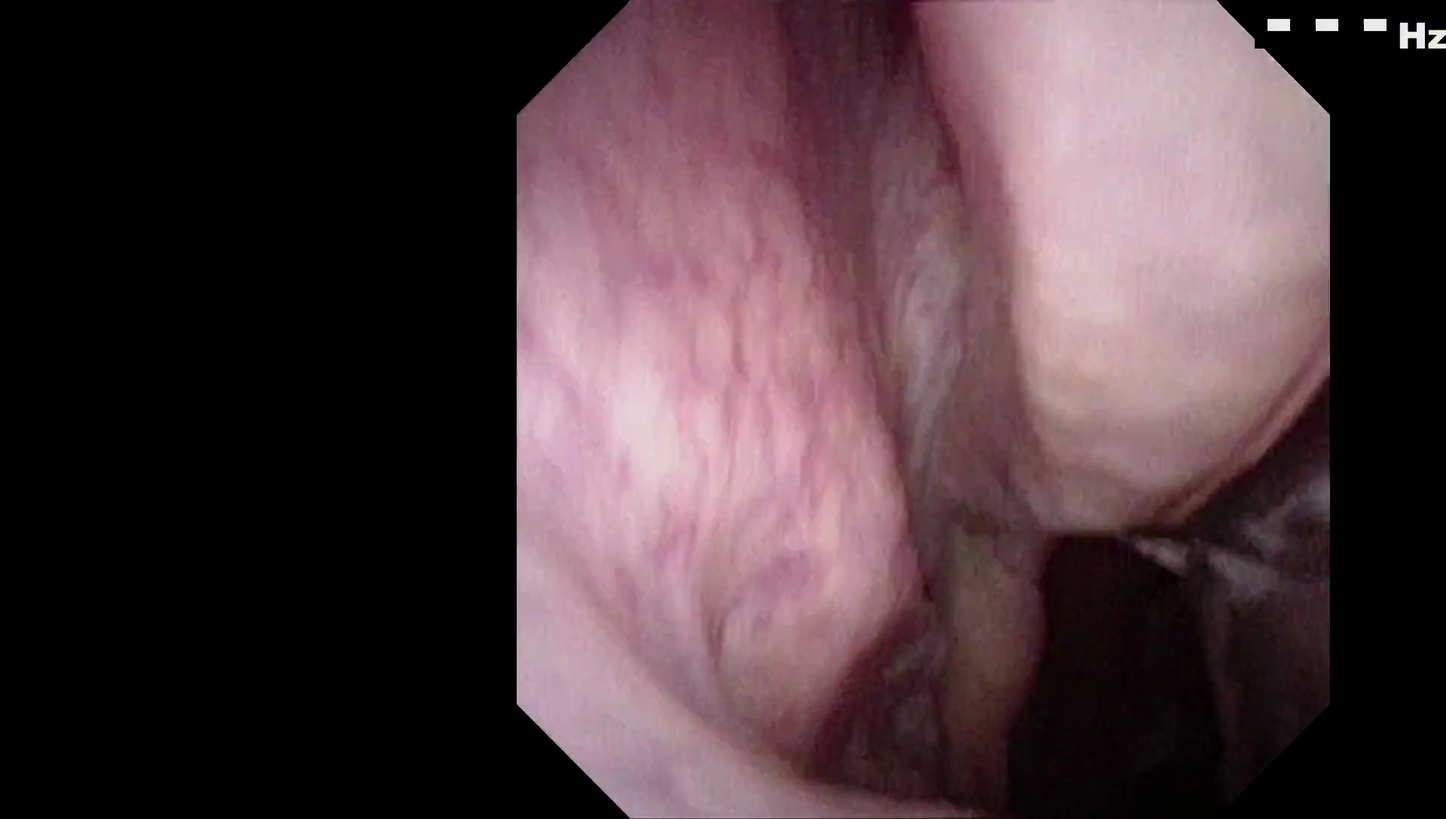close_wall: (523, 156, 824, 687)
next: (992, 497, 1233, 819)
